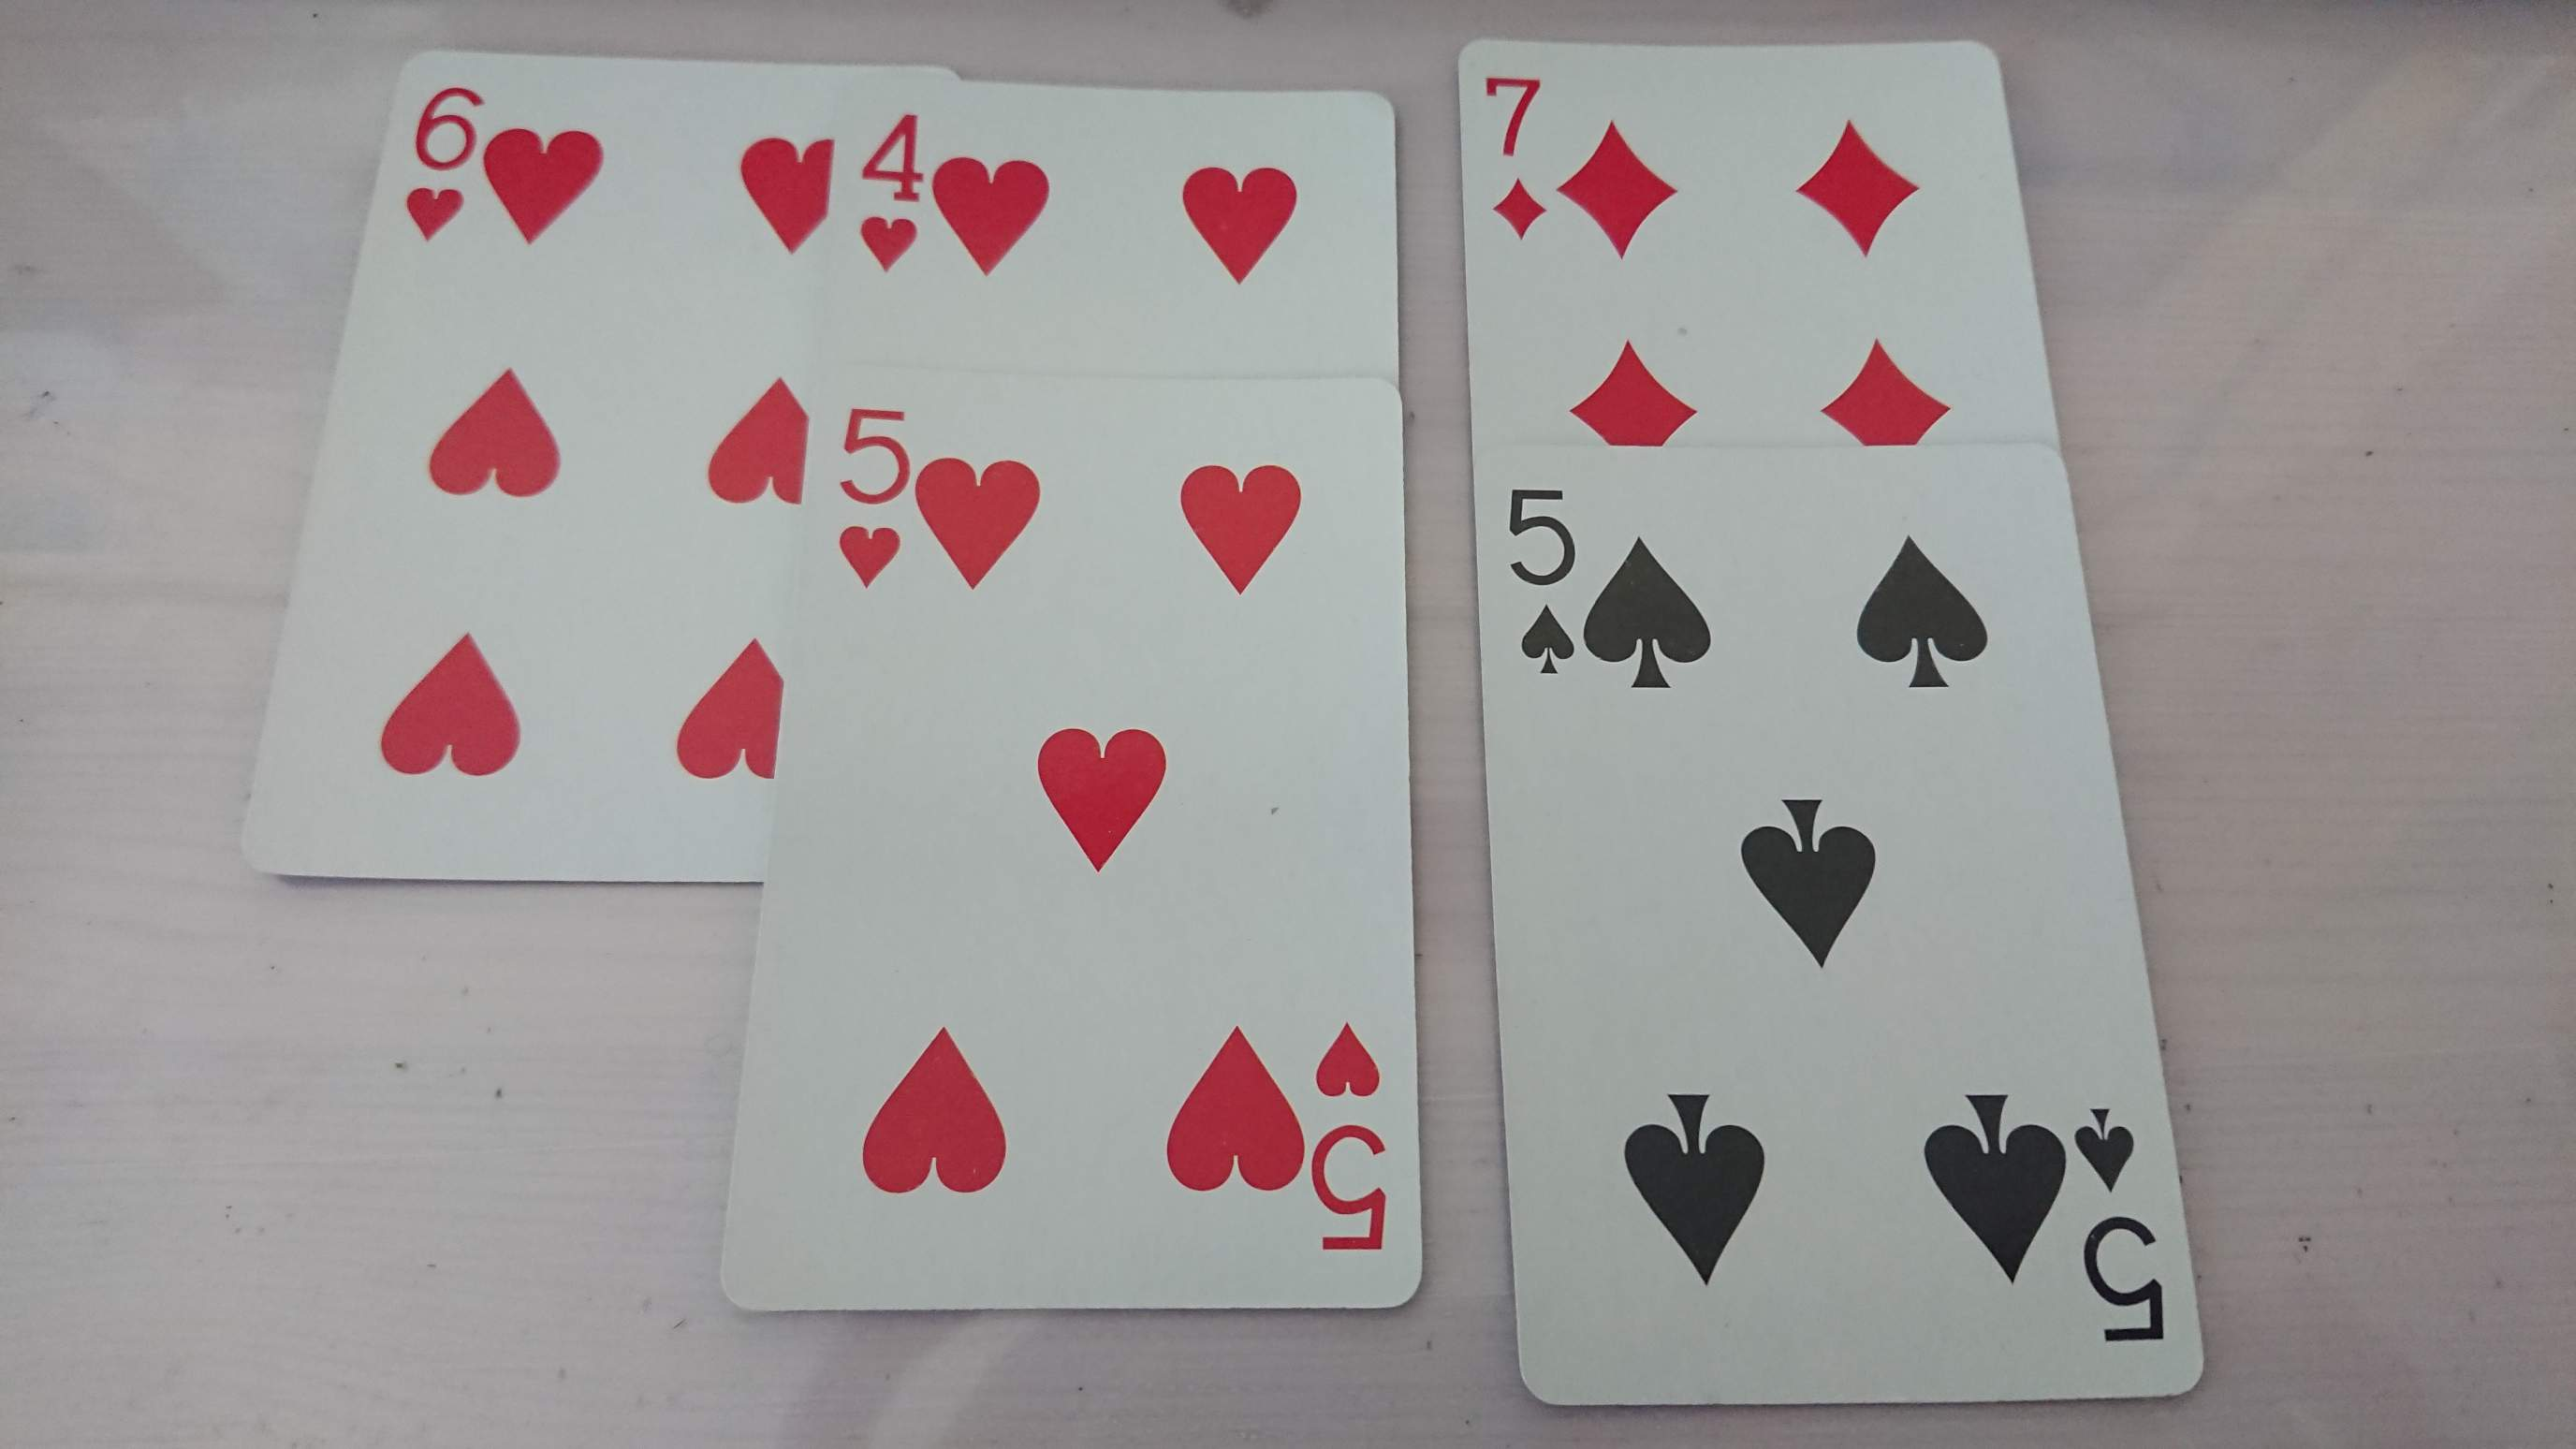4H: (851, 104, 934, 278)
5H: (832, 398, 916, 593)
5S: (1499, 478, 1585, 681)
6H: (400, 78, 492, 255)
7D: (1474, 60, 1559, 251)
